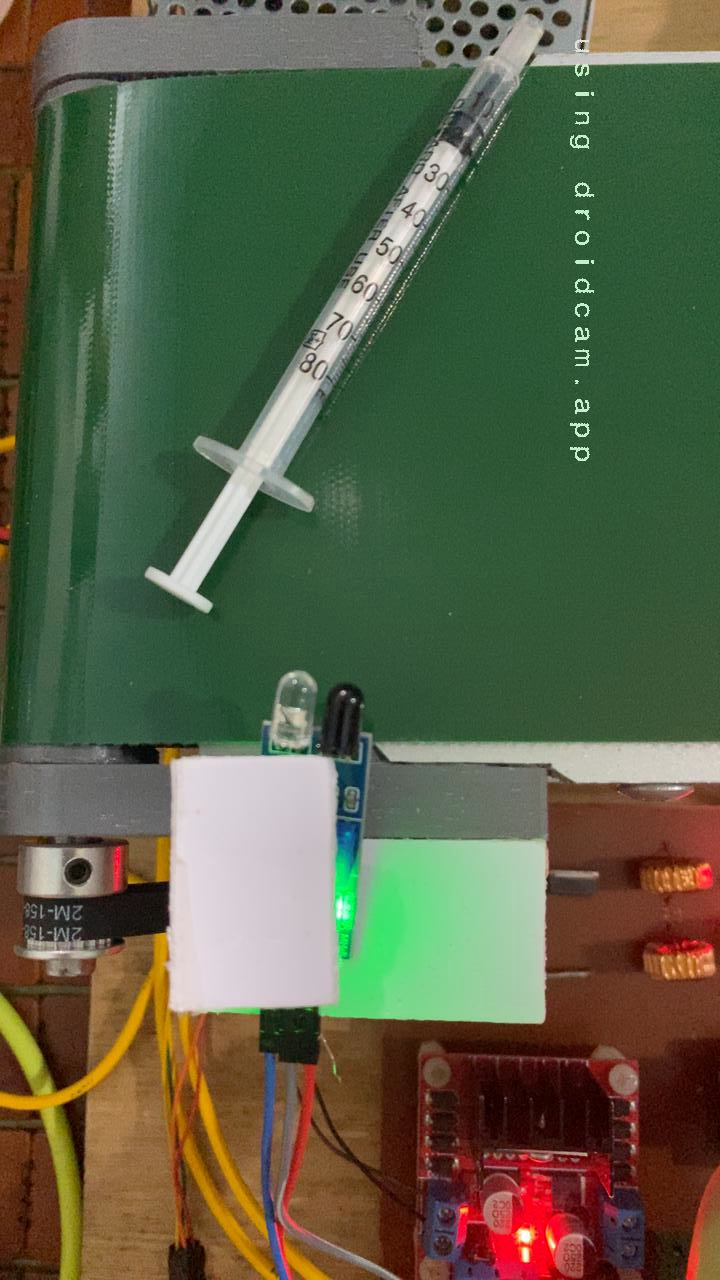syringe: (138, 68, 531, 619)
